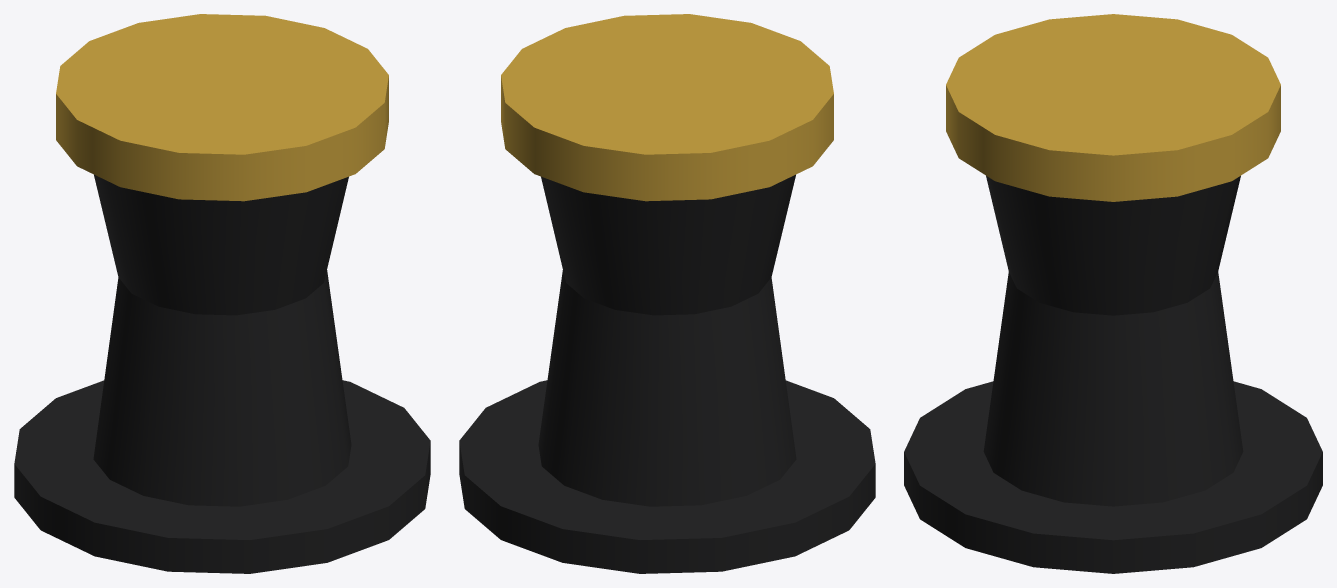
The model's file is parametric-capstan-crew.glb.
3 views of the same model, side by side, from view 1: azimuth 30°, elevation 25°; view 2: azimuth 150°, elevation 25°; view 3: azimuth 270°, elevation 25° (orthographic).
Parts seen in each view (by area): view 1: parametric-capstan-crew; view 2: parametric-capstan-crew; view 3: parametric-capstan-crew.
Part boxes in pixels (bbox=[...]): parametric-capstan-crew: bbox=[14, 14, 430, 573]; parametric-capstan-crew: bbox=[459, 14, 875, 573]; parametric-capstan-crew: bbox=[904, 14, 1322, 573].
Size of the model in its own units: 0.9 by 0.95 by 0.9.
